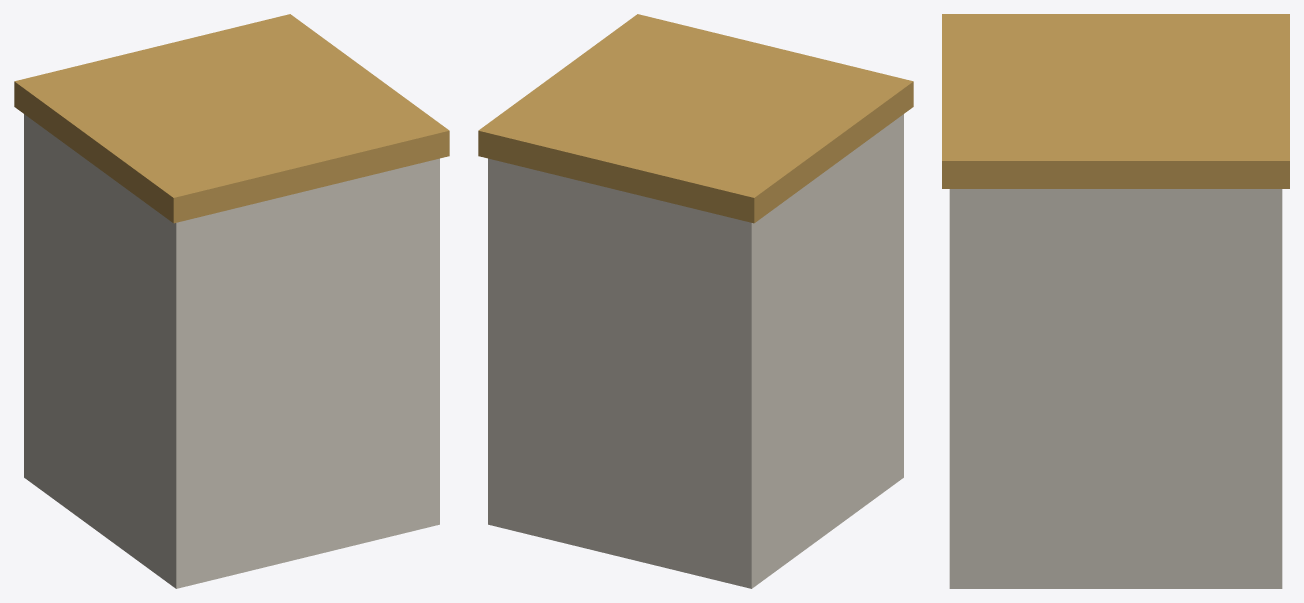
File: display-plinth.glb
3 views of the same model, side by side, from view 1: azimuth 30°, elevation 25°; view 2: azimuth 150°, elevation 25°; view 3: azimuth 270°, elevation 25° (orthographic). The views are drawn at different scales.
Bounding box in the file's own units: 0.68 × 0.93 × 0.68.
